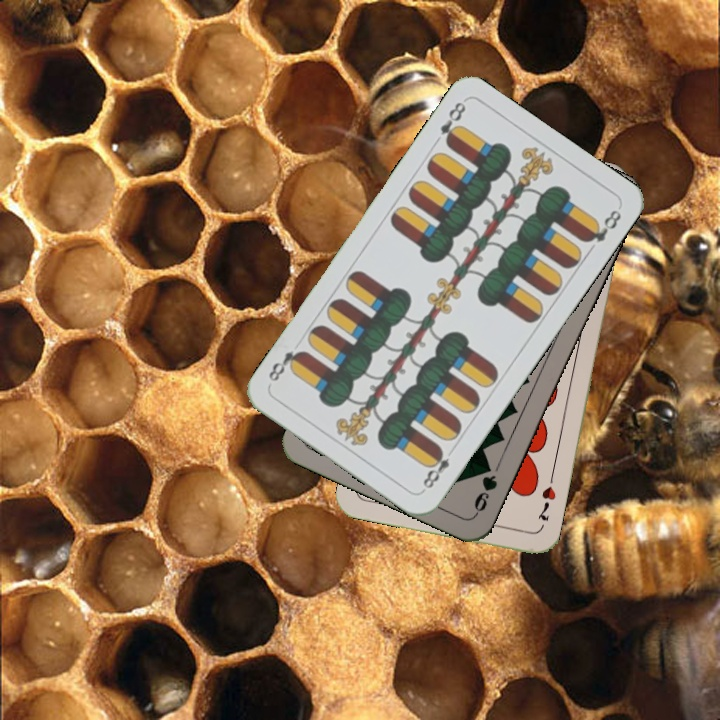E8: (435, 97, 469, 150), (418, 444, 453, 494)
G9: (470, 458, 500, 518)
H7: (533, 482, 559, 524)
